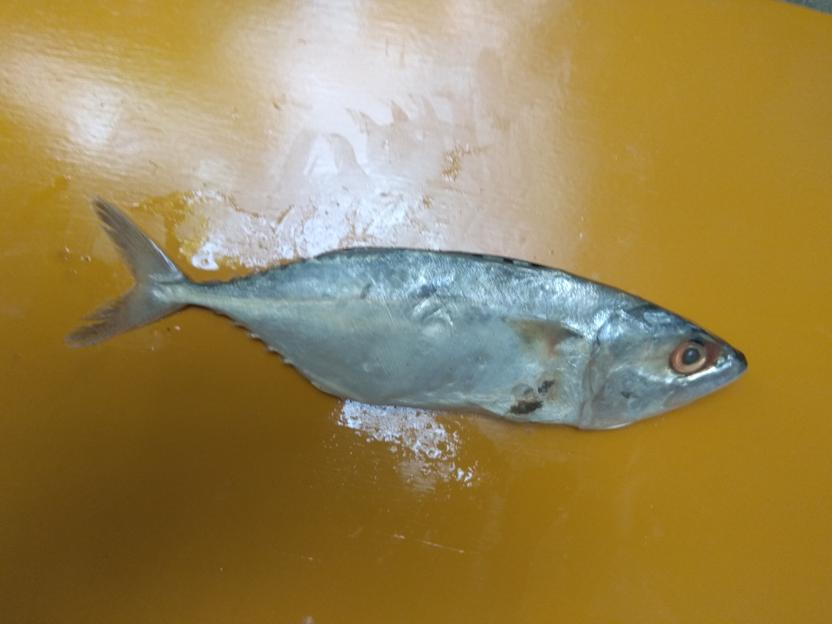Fish head: (585, 301, 749, 430)
Fish tail: (66, 196, 193, 345)
